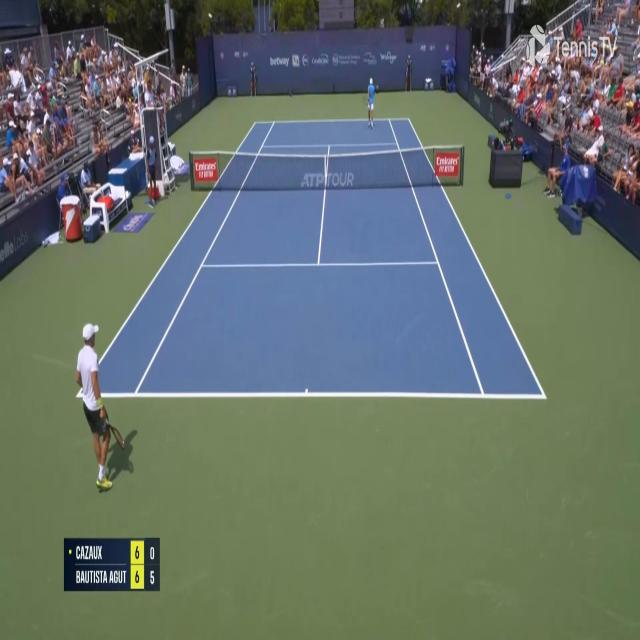tennis-player: (73, 316, 140, 492), (365, 75, 377, 130)
